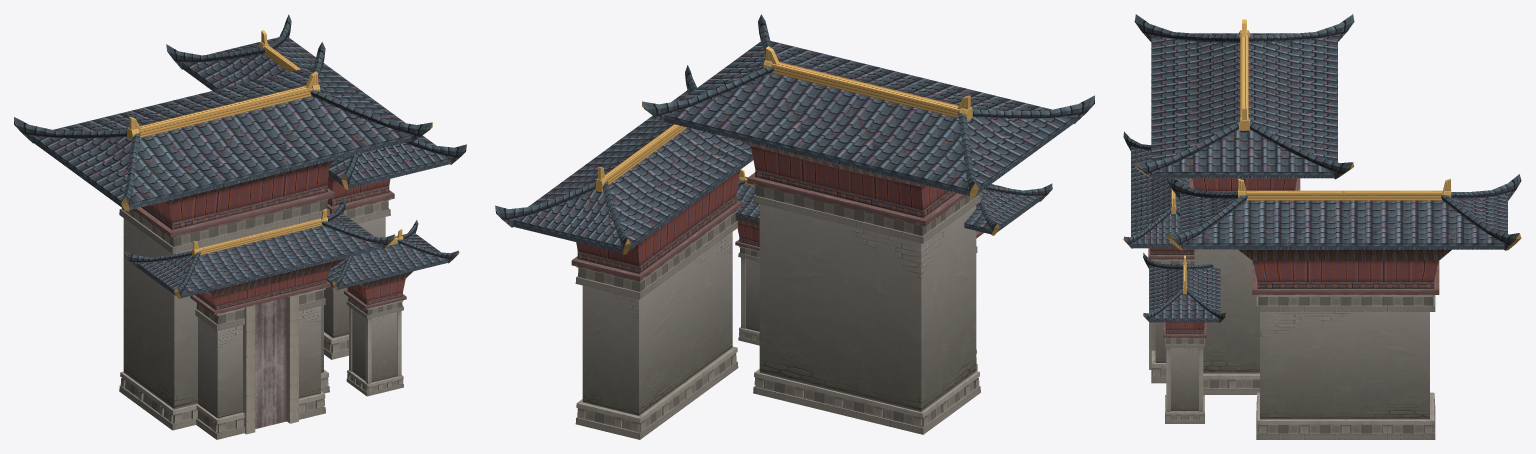
File: mod_zlc_jianzhu041_xy.FBX
3 views of the same model, side by side, from view 1: azimuth 30°, elevation 25°; view 2: azimuth 150°, elevation 25°; view 3: azimuth 270°, elevation 25° (orthographic). The views are drawn at different scales.
Parts seen in each view (by area): view 1: mod_zlc_jianzhu041_xy; view 2: mod_zlc_jianzhu041_xy; view 3: mod_zlc_jianzhu041_xy.
Part boxes in pixels (<box>): mod_zlc_jianzhu041_xy: <box>14,14,466,439</box>; mod_zlc_jianzhu041_xy: <box>495,14,1094,439</box>; mod_zlc_jianzhu041_xy: <box>1123,14,1521,439</box>.
Bounding box in the file's own units: 1953 × 1536 × 1890.
4 materials, 4 textured.
